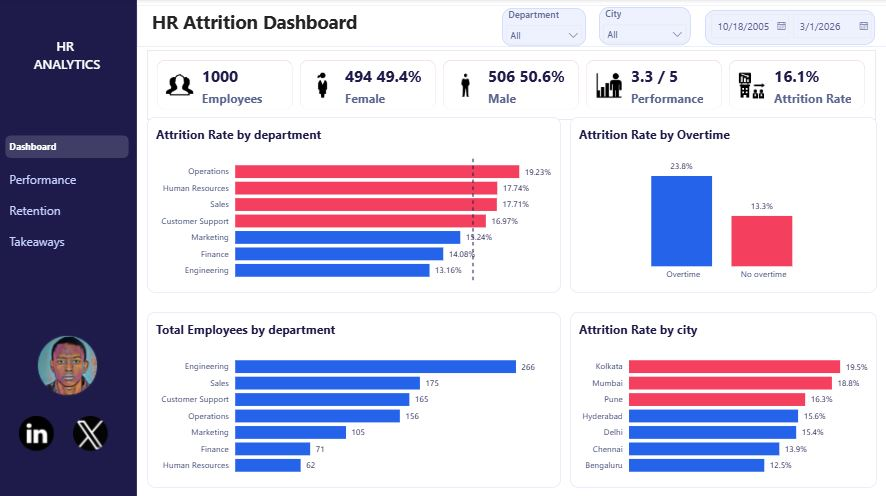

The dashboard page shown, as its layout file describes it:
{"tool":"powerbi","page":{"name":"Dashboard","canvas":[1280,720],"ordinal":0},"visuals":[{"type":"cardVisual","fields":{"Data":["Table.Total Employees","Table.Female KPI Display","Table.Male KPI Display","Table.Avg Performance Display","Table.Attrition Rate"]},"box":[215,74,1050,100],"z":0},{"type":"donutChart","title":"Employees per department","fields":{"Category":["Employee & Attrition Records.department"],"Y":["Table.Total Employees"]},"box":[1978.8,839.7,410,330.9],"z":1000},{"type":"shape","title":"Sidebar","box":[0,0,200,720],"z":2000},{"type":"pageNavigator","title":"PageNav","box":[5,190,190,180],"z":3000},{"type":"shape","title":"Header","box":[200,9,1080,60],"z":4000},{"type":"textbox","box":[220.5,13.7,314.4,54.7],"z":5000},{"type":"slicer","fields":{"Values":["Employee & Attrition Records.department"]},"box":[725.8,13,121.3,54.7],"z":6000},{"type":"slicer","fields":{"Values":["Employee & Attrition Records.city"]},"box":[865.4,11.5,131.6,54.7],"z":7000},{"type":"clusteredBarChart","fields":{"Category":["Employee & Attrition Records.department"],"Y":["Table.Attrition Rate"]},"box":[214.6,169.9,596,253],"z":8000},{"type":"clusteredColumnChart","title":"Attrition Rate by Overtime ","fields":{"Category":["Employee & Attrition Records.Overtime Label"],"Y":["Table.Attrition Rate"]},"box":[823,170,442,253],"z":9000},{"type":"clusteredBarChart","fields":{"Category":["Employee & Attrition Records.department"],"Y":["Table.Total Employees"]},"box":[215,451,596,253],"z":10000},{"type":"clusteredBarChart","fields":{"Category":["Employee & Attrition Records.city"],"Y":["Table.Attrition Rate"]},"box":[823,451,442,253],"z":11000},{"type":"textbox","box":[30,50,138,70],"z":12000},{"type":"slicer","fields":{"Values":["Employee & Attrition Records.date_of_joining"]},"box":[1018.4,15.6,245,50],"z":13000},{"type":"actionButton","box":[49.8,478.1,100,100],"z":14000},{"type":"actionButton","box":[30,600,50,50],"z":15000},{"type":"actionButton","box":[108,600,50,50],"z":16000}]}

Visuals, with their boxes in screenshot pixels (x1, y1, x2, y2), scaled from the page's 1280x720 canvas onto the 886x496 screenshot:
cardVisual - Table.Total Employees x Table.Female KPI Display: 149 51 876 120
"Sidebar" shape: 0 0 138 495
"PageNav" pageNavigator: 3 131 135 255
"Header" shape: 138 6 885 48
textbox: 153 9 370 47
slicer - Employee & Attrition Records.department: 502 9 586 47
slicer - Employee & Attrition Records.city: 599 8 690 46
clusteredBarChart - Employee & Attrition Records.department x Table.Attrition Rate: 149 117 561 291
"Attrition Rate by Overtime " clusteredColumnChart: 570 117 876 291
clusteredBarChart - Employee & Attrition Records.department x Table.Total Employees: 149 311 561 485
clusteredBarChart - Employee & Attrition Records.city x Table.Attrition Rate: 570 311 876 485
textbox: 21 34 116 83
slicer - Employee & Attrition Records.date_of_joining: 705 11 875 45
actionButton: 34 329 104 398
actionButton: 21 413 55 448
actionButton: 75 413 109 448
